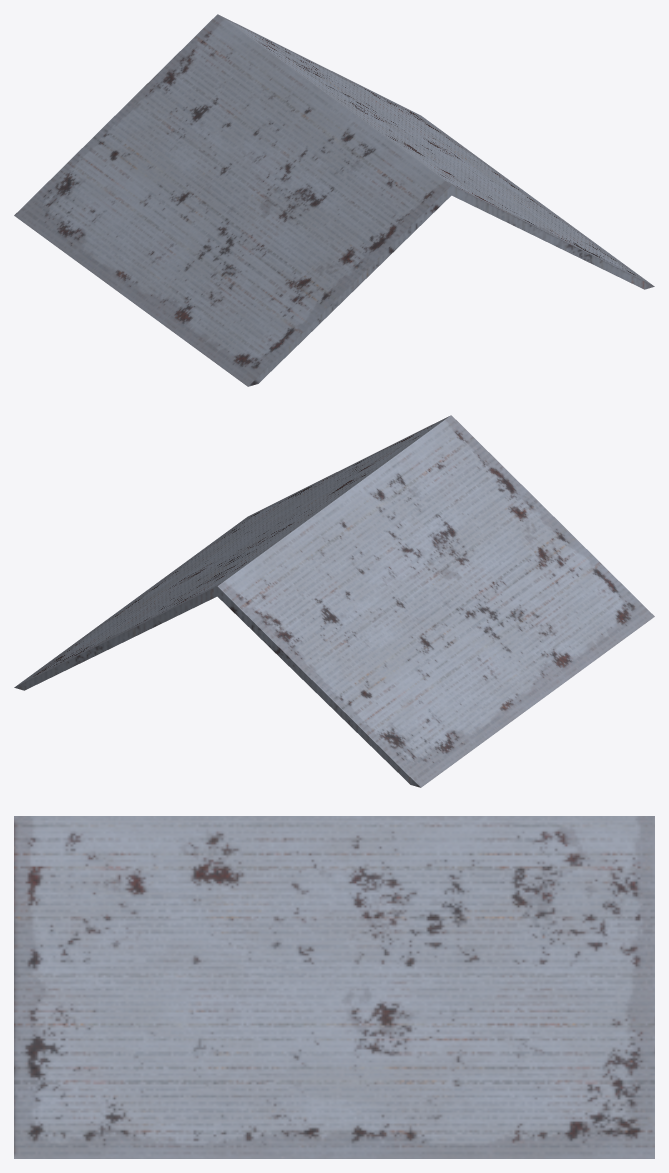
Rendered from roof.fbx.
The picture shows the model from 3 angles, top to bottom: view 1: azimuth 30°, elevation 25°; view 2: azimuth 150°, elevation 25°; view 3: azimuth 270°, elevation 25°; orthographic projection. The views are drawn at different scales.
Visible parts, largest first — view 1: Tejado; view 2: Tejado; view 3: Tejado.
Boxes of the visible parts, left/top/right/bottom form: Tejado: left=14, top=14, right=654, bottom=386; Tejado: left=14, top=415, right=654, bottom=787; Tejado: left=14, top=816, right=654, bottom=1158.
Bounding box in the file's own units: 21010 × 7491 × 20920.
1 material, 1 textured.
